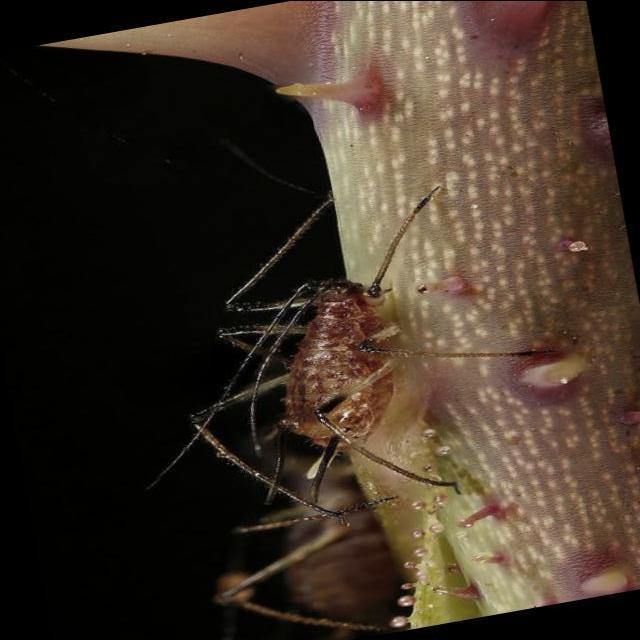aphid: (160, 180, 548, 547)
